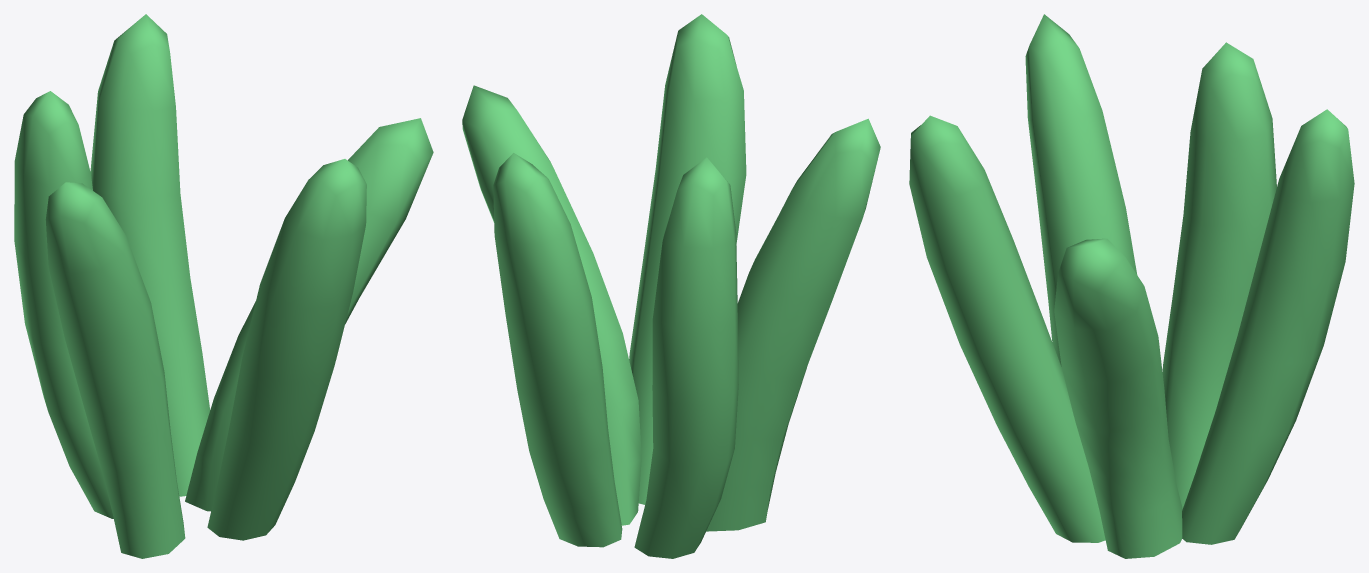
Rendered from Grass_A_06.fbx.
The picture shows the model from 3 angles, left to right: view 1: azimuth 30°, elevation 25°; view 2: azimuth 150°, elevation 25°; view 3: azimuth 270°, elevation 25°; orthographic projection. The views are drawn at different scales.
Parts seen in each view (by area): view 1: Grass_A_06_LOD0; view 2: Grass_A_06_LOD0; view 3: Grass_A_06_LOD0.
Boxes of the visible parts, x1,y1,x2,y2 form: Grass_A_06_LOD0: (14,14,433,558); Grass_A_06_LOD0: (462,14,880,558); Grass_A_06_LOD0: (909,14,1354,558).
Size of what is drawn, in the model's own units: 317 by 322 by 301.
